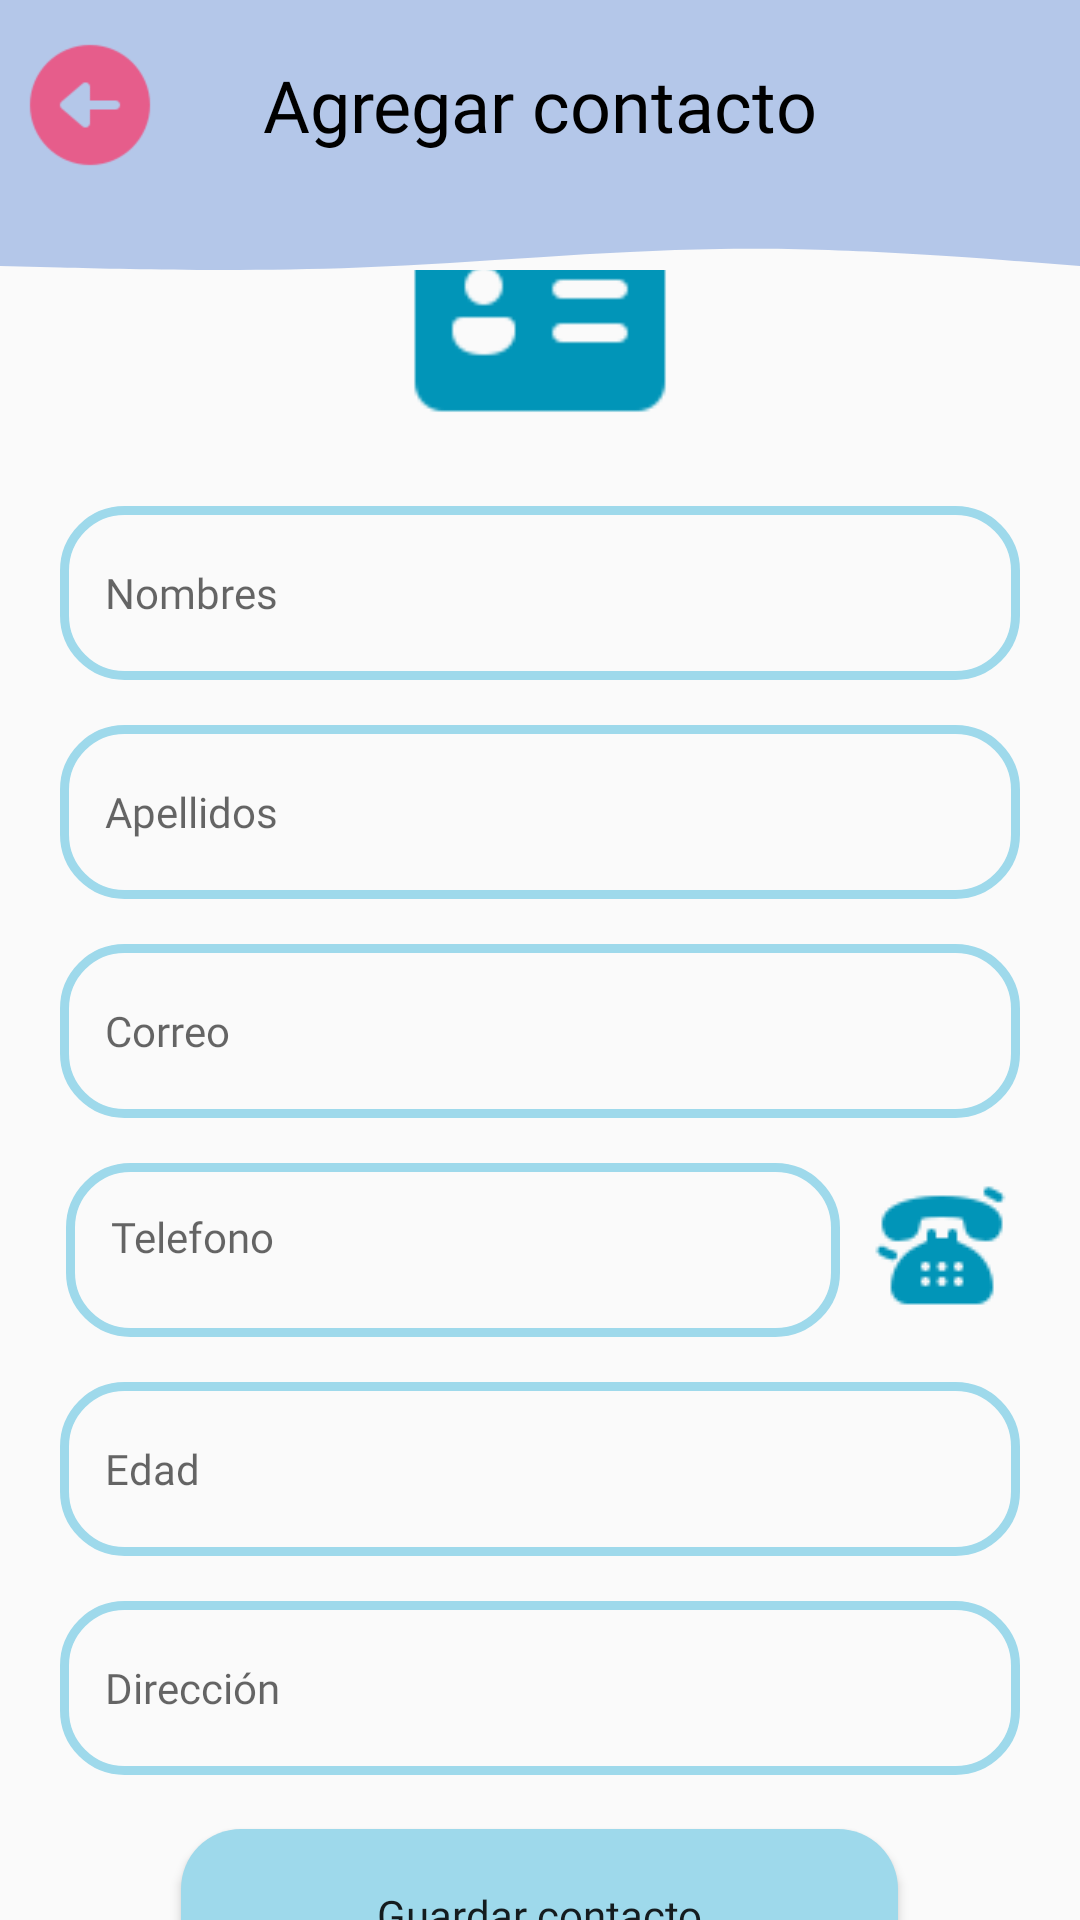

Screen size 1080×1920. Icon name, then its box in pixels as bbox=(x1, y1, x2, y2):
salir: bbox=(30, 45, 150, 165)
